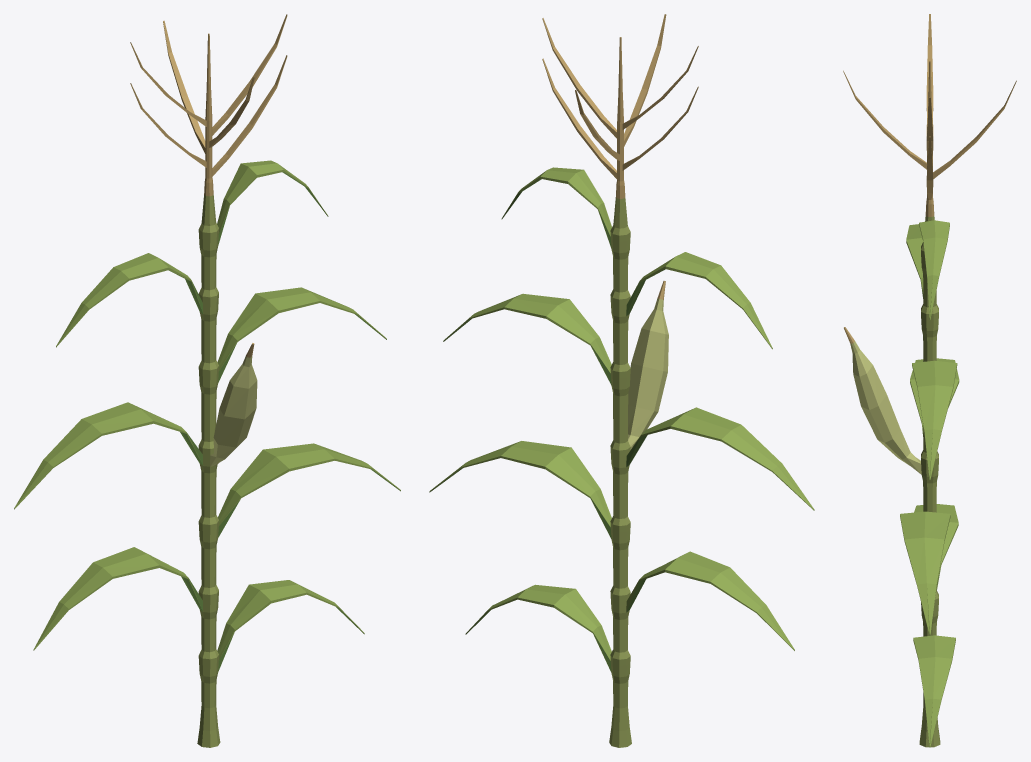
3 renders of one model, left to right at view 1: azimuth 30°, elevation 25°; view 2: azimuth 150°, elevation 25°; view 3: azimuth 270°, elevation 25°, orthographic. The views are drawn at different scales.
Visible parts, largest first — view 1: ContinuousMatureMaize; view 2: ContinuousMatureMaize; view 3: ContinuousMatureMaize.
Boxes of the visible parts, box(x1,y1,x2,y2) form: ContinuousMatureMaize: box(14, 14, 400, 747); ContinuousMatureMaize: box(429, 14, 814, 747); ContinuousMatureMaize: box(843, 14, 1016, 747).
Size of the model in its own units: 1.39 by 2.47 by 0.5603.
